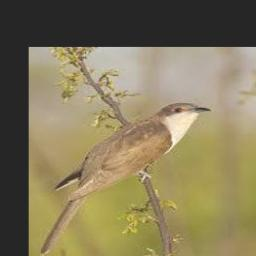Cuckoo: (40, 102, 212, 256)
